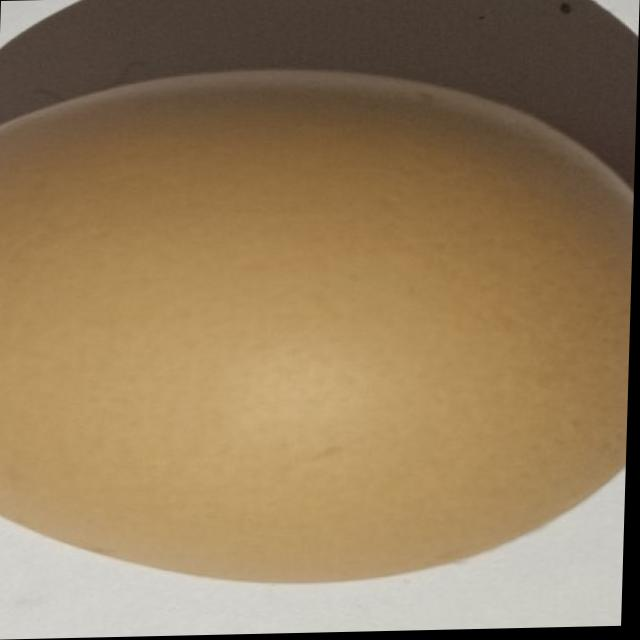fresh: (0, 73, 638, 588)
